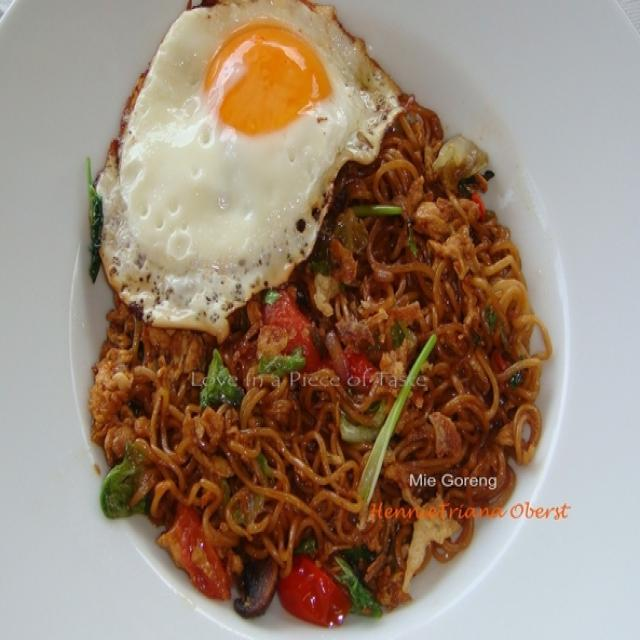面条主食: (40, 29, 612, 623)
